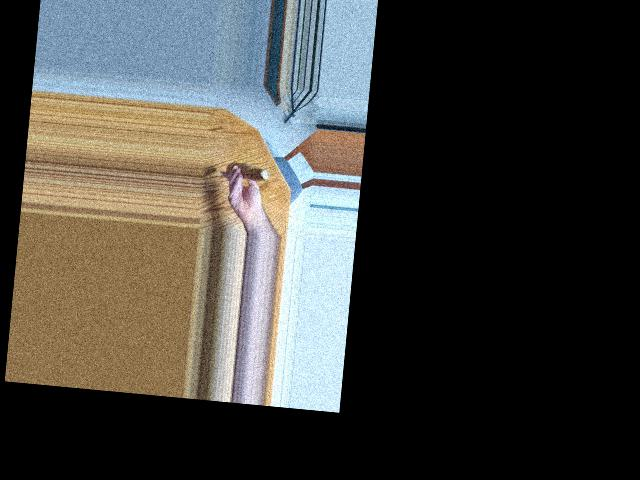sweet_potato: (230, 159, 269, 186)
